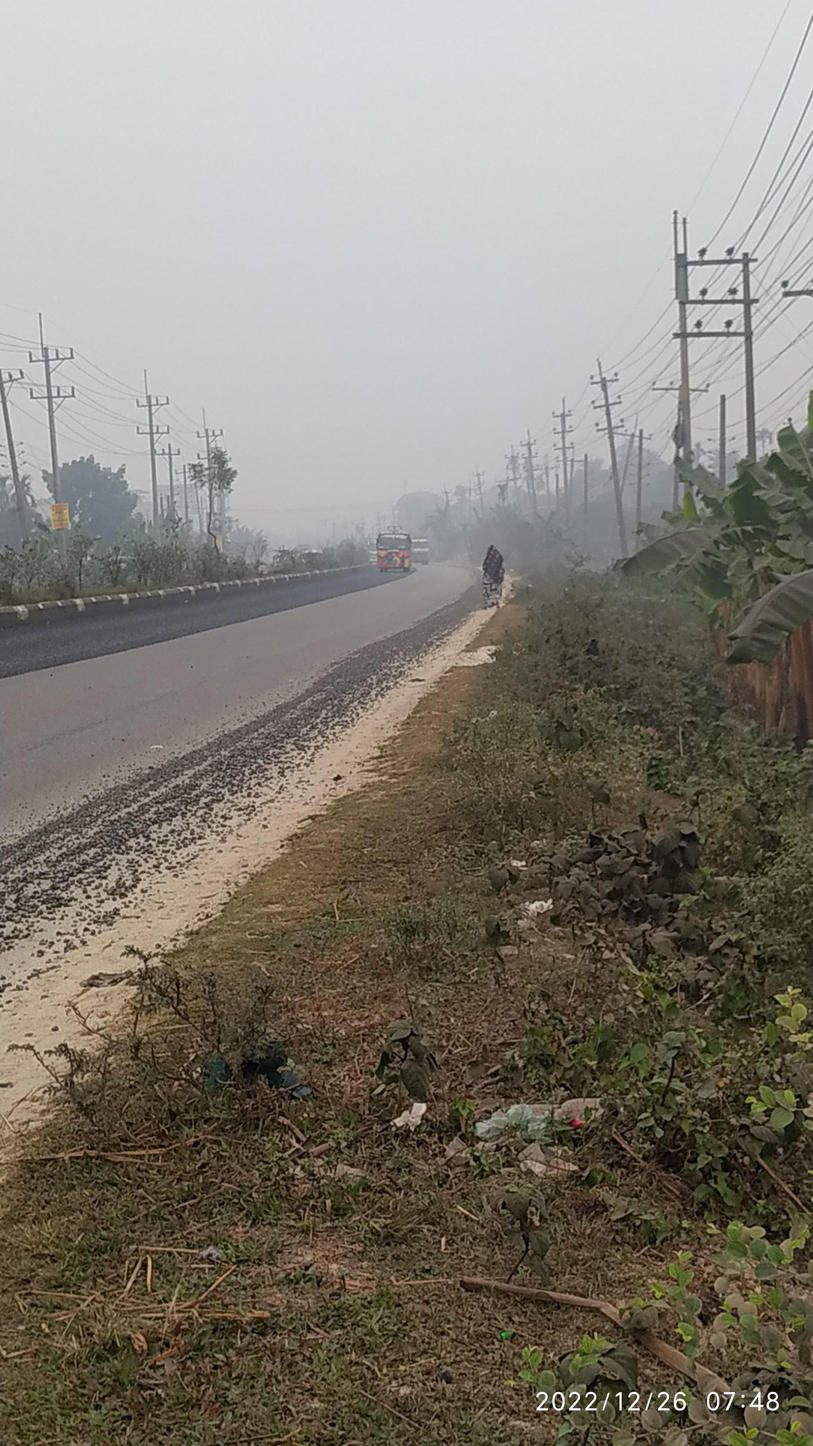Bus: (364, 526, 425, 581)
